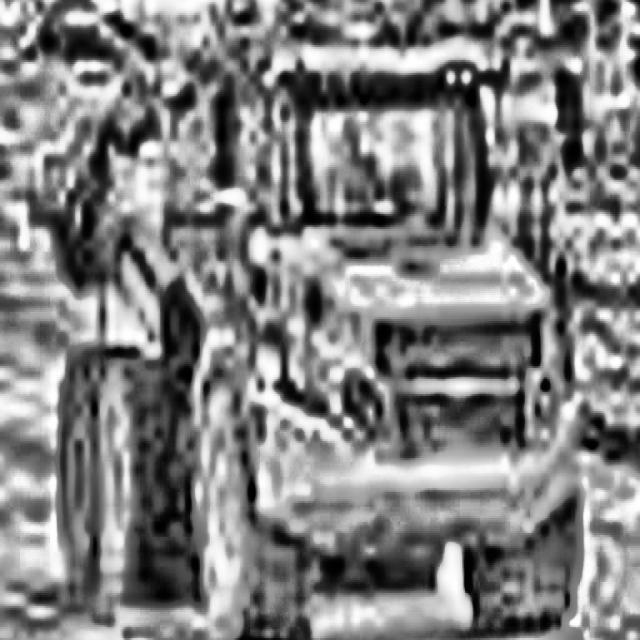dump_truck: (31, 0, 599, 640)
